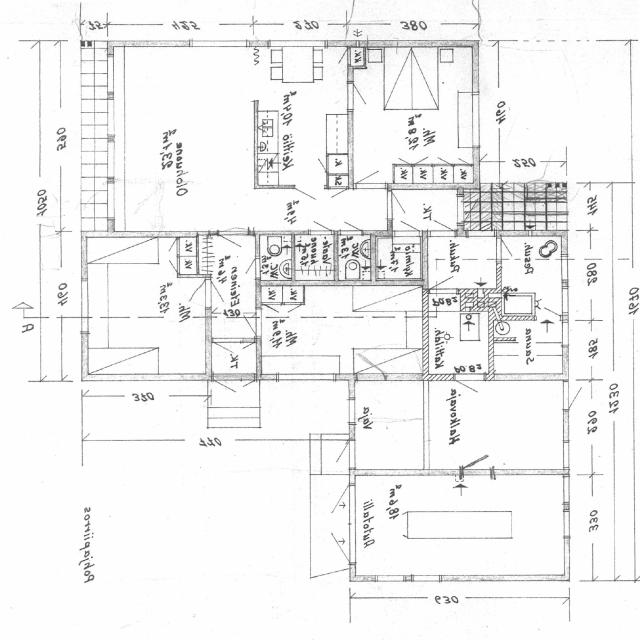door: (307, 524, 355, 563), (307, 486, 355, 524), (461, 438, 494, 475), (454, 374, 485, 410), (457, 195, 495, 224), (318, 440, 355, 468), (563, 382, 599, 410), (176, 280, 212, 308), (387, 191, 422, 219), (295, 185, 325, 217), (356, 156, 385, 189), (348, 82, 383, 109), (214, 374, 242, 407), (227, 308, 260, 336), (213, 338, 242, 369), (430, 264, 457, 294), (496, 238, 528, 262), (430, 207, 455, 236), (395, 207, 419, 236), (536, 292, 560, 320), (231, 256, 260, 278), (340, 209, 363, 235), (311, 211, 331, 235), (159, 238, 180, 254), (330, 186, 347, 205), (330, 48, 350, 64), (284, 302, 301, 320), (264, 302, 281, 320), (435, 149, 452, 166), (310, 156, 328, 172), (160, 258, 180, 272), (456, 149, 472, 166), (415, 149, 431, 166), (396, 149, 412, 166), (242, 374, 254, 393), (242, 338, 255, 353)
